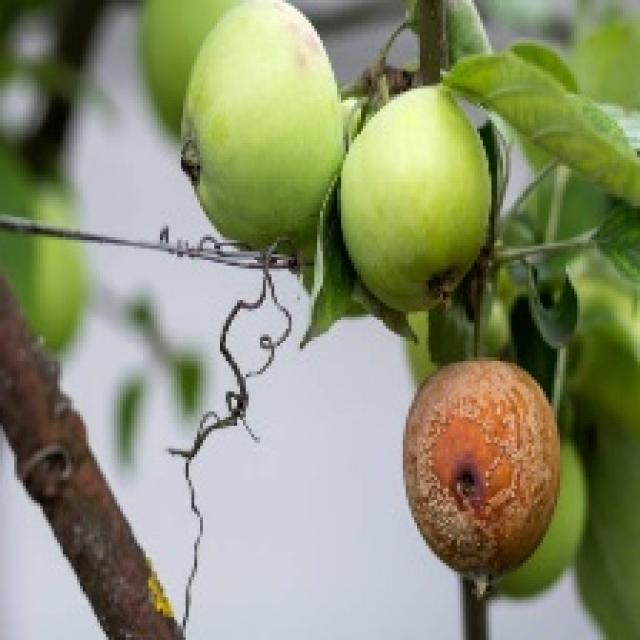50-_ripeness: (183, 0, 340, 250), (344, 80, 496, 314)
rotten_apple: (408, 361, 562, 577)
